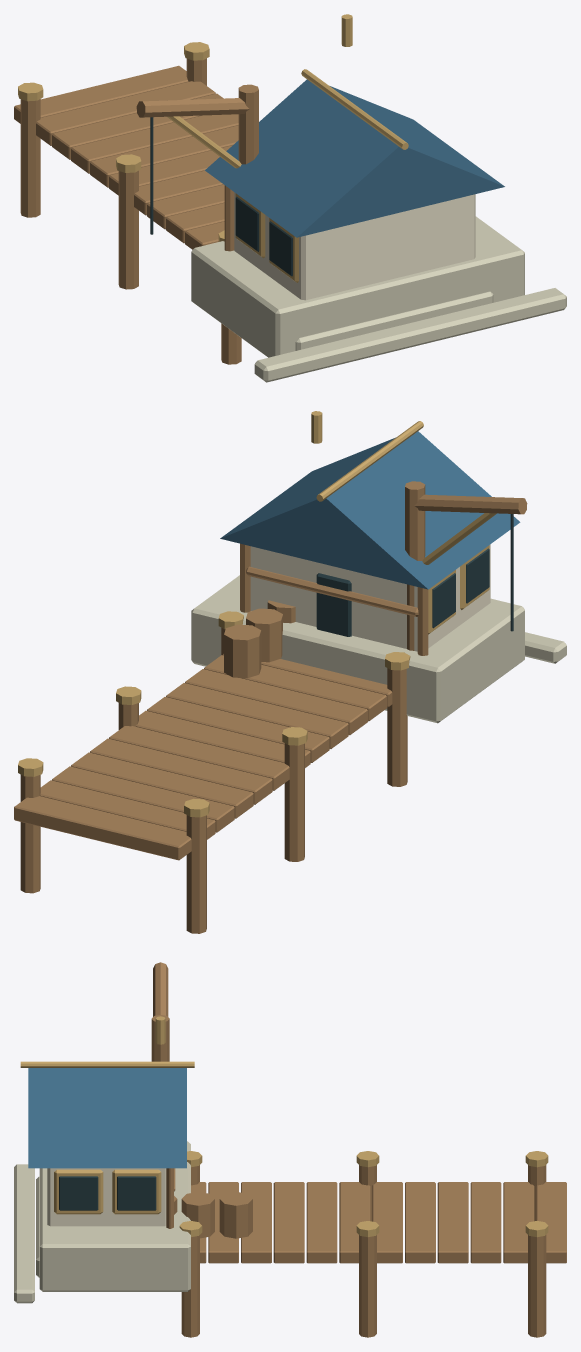
Rendered from level_11.glb.
The picture shows the model from 3 angles, top to bottom: view 1: azimuth 30°, elevation 25°; view 2: azimuth 150°, elevation 25°; view 3: azimuth 270°, elevation 25°; orthographic projection. The views are drawn at different scales.
Parts seen in each view (by area): view 1: fishing_wharf — level 11; view 2: fishing_wharf — level 11; view 3: fishing_wharf — level 11.
Part boxes in pixels (x1=…): fishing_wharf — level 11: x1=14, y1=14, x2=566, y2=382; fishing_wharf — level 11: x1=14, y1=411, x2=566, y2=933; fishing_wharf — level 11: x1=14, y1=962, x2=566, y2=1337.
Bounding box in the file's own units: 4.53 × 4.19 × 7.32.
